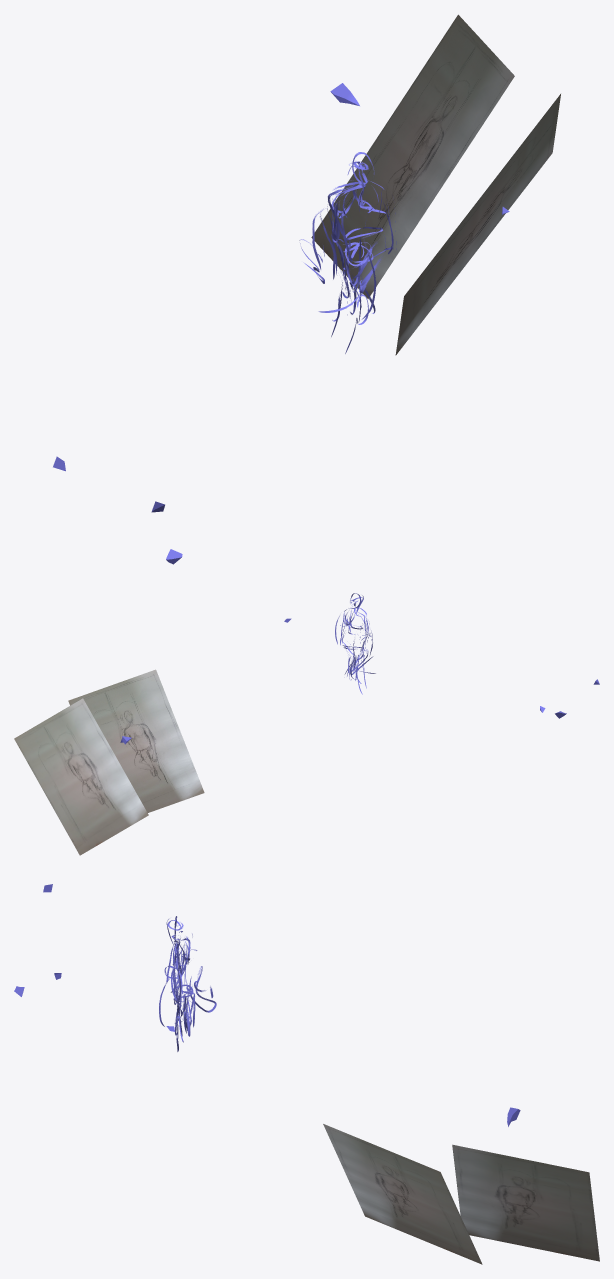
The picture shows the model from 3 angles, top to bottom: view 1: azimuth 30°, elevation 25°; view 2: azimuth 150°, elevation 25°; view 3: azimuth 270°, elevation 25°; orthographic projection. The views are drawn at different scales.
Visible parts, largest first — view 1: image_6197069215043797675_0, image_6197069215043797675_1, brush_Light_g0_b0, brush_Spikes_g0_b0; view 2: image_6197069215043797675_0, image_6197069215043797675_1, brush_Light_g0_b0; view 3: image_6197069215043797675_0, image_6197069215043797675_1, brush_Light_g0_b0.
Part boxes in pixels (x1,y1,x2,y2): image_6197069215043797675_0: (311,14,514,298); image_6197069215043797675_1: (395,94,560,355); brush_Light_g0_b0: (299,152,396,353); brush_Spikes_g0_b0: (53,83,509,564); image_6197069215043797675_0: (14,698,148,855); image_6197069215043797675_1: (68,669,204,812); brush_Light_g0_b0: (335,593,375,694); image_6197069215043797675_0: (452,1144,599,1261); image_6197069215043797675_1: (323,1124,482,1264); brush_Light_g0_b0: (159,916,216,1051).
Size of the model in its own units: 3.09 by 1.37 by 2.82.
3 materials, 2 textured.
